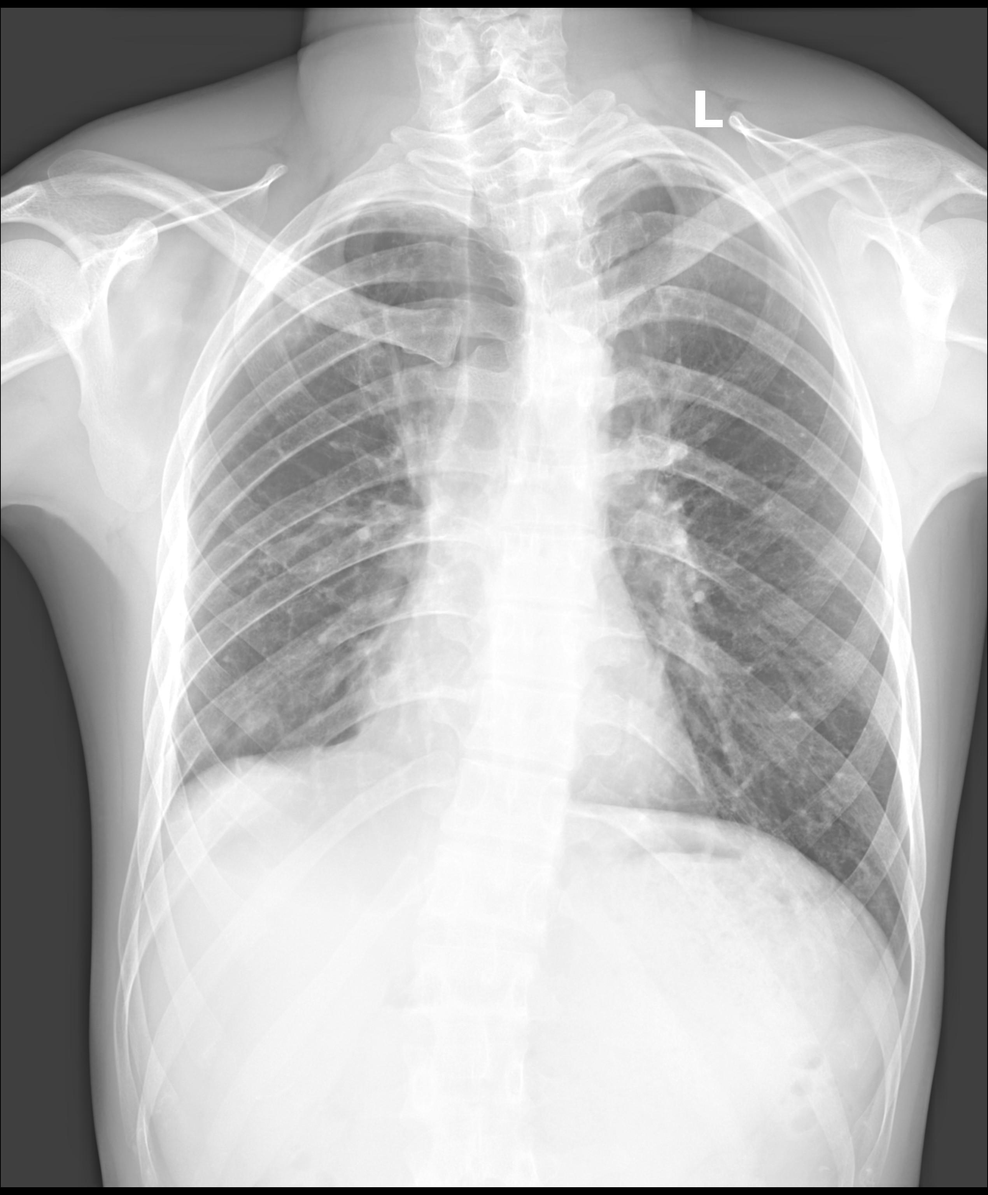Pleural thickening: (148, 508, 197, 846)
